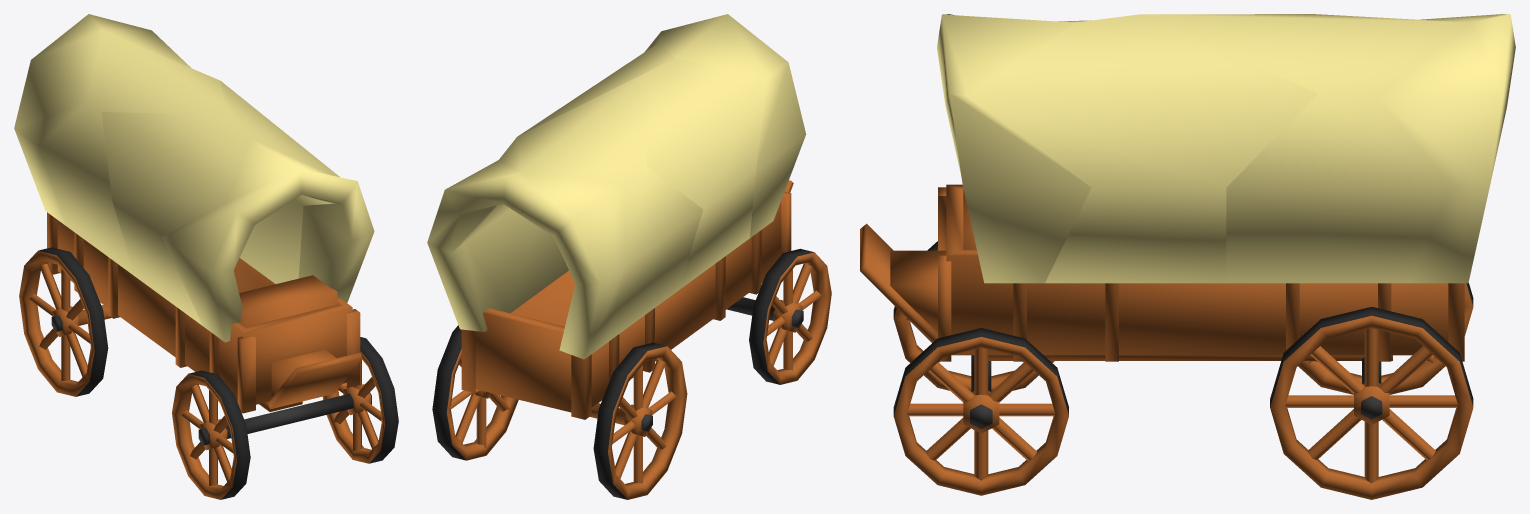
Rendered from Western_HorseWagon_Parts.fbx.
3 renders of one model, left to right at view 1: azimuth 30°, elevation 25°; view 2: azimuth 150°, elevation 25°; view 3: azimuth 270°, elevation 25°, orthographic. The views are drawn at different scales.
Visible parts, largest first — view 1: HorseWagon.Parts.013, HorseWagon.Parts.014, HorseWagon.Parts, HorseWagon.Parts.012, HorseWagon.Parts.011, HorseWagon.Parts.004, HorseWagon.Parts.003, HorseWagon.Parts.001, HorseWagon.Parts.010, HorseWagon.Parts.005, HorseWagon.Parts.008, HorseWagon.Parts.009 (+1 smaller); view 2: HorseWagon.Parts.012, HorseWagon.Parts, HorseWagon.Parts.011, HorseWagon.Parts.013, HorseWagon.Parts.014, HorseWagon.Parts.004, HorseWagon.Parts.003, HorseWagon.Parts.002, HorseWagon.Parts.005, HorseWagon.Parts.006; view 3: HorseWagon.Parts.013, HorseWagon.Parts.012, HorseWagon.Parts, HorseWagon.Parts.014, HorseWagon.Parts.011, HorseWagon.Parts.002, HorseWagon.Parts.001, HorseWagon.Parts.009, HorseWagon.Parts.008, HorseWagon.Parts.004, HorseWagon.Parts.007, HorseWagon.Parts.003 (+1 smaller).
Boxes of the visible parts, box(x1,y1,x2,y2) form: HorseWagon.Parts.013: box(102, 81, 339, 325); HorseWagon.Parts.014: box(162, 138, 374, 342); HorseWagon.Parts: box(47, 212, 360, 413); HorseWagon.Parts.012: box(38, 31, 226, 276); HorseWagon.Parts.011: box(14, 14, 190, 226); HorseWagon.Parts.004: box(19, 247, 108, 396); HorseWagon.Parts.003: box(172, 370, 250, 499); HorseWagon.Parts.001: box(322, 337, 398, 463); HorseWagon.Parts.010: box(239, 275, 337, 326); HorseWagon.Parts.005: box(198, 384, 371, 450); HorseWagon.Parts.008: box(268, 352, 362, 409); HorseWagon.Parts.009: box(271, 349, 336, 397); HorseWagon.Parts.012: box(466, 70, 702, 341); HorseWagon.Parts: box(461, 191, 791, 419); HorseWagon.Parts.011: box(427, 160, 625, 359); HorseWagon.Parts.013: box(519, 43, 767, 289); HorseWagon.Parts.014: box(645, 14, 806, 237); HorseWagon.Parts.004: box(593, 342, 687, 499); HorseWagon.Parts.003: box(749, 248, 831, 384); HorseWagon.Parts.002: box(432, 325, 518, 460); HorseWagon.Parts.005: box(726, 297, 803, 332); HorseWagon.Parts.006: box(590, 403, 652, 436); HorseWagon.Parts.013: box(968, 14, 1318, 283); HorseWagon.Parts.012: box(1139, 14, 1470, 283); HorseWagon.Parts: box(938, 184, 1464, 424); HorseWagon.Parts.014: box(937, 14, 1091, 283); HorseWagon.Parts.011: box(1377, 14, 1515, 283); HorseWagon.Parts.002: box(1270, 306, 1473, 499); HorseWagon.Parts.001: box(893, 328, 1068, 495); HorseWagon.Parts.009: box(890, 250, 946, 332); HorseWagon.Parts.008: box(860, 223, 937, 342); HorseWagon.Parts.004: box(1298, 283, 1473, 394); HorseWagon.Parts.007: box(988, 355, 1392, 360); HorseWagon.Parts.003: box(893, 241, 1054, 391).
Size of the model in its own units: 171 by 309 by 426.
Materials: 1 (1 with a texture image).
